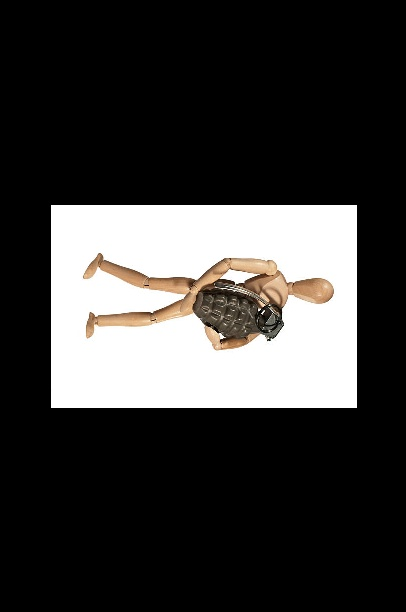e1: (196, 277, 285, 352)
